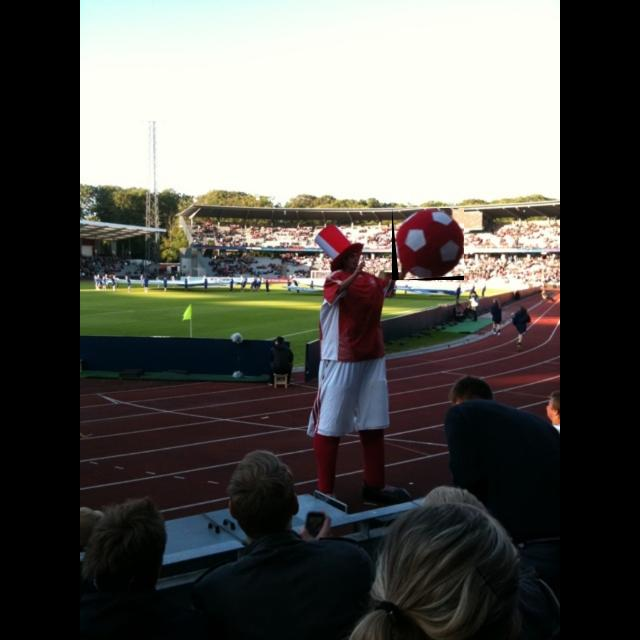Football: (392, 208, 464, 280)
